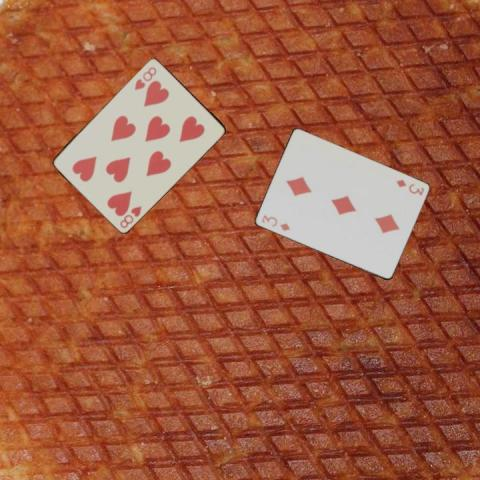3d: (259, 212, 291, 232), (393, 176, 425, 196)
8h: (131, 64, 158, 92), (117, 203, 143, 229)
